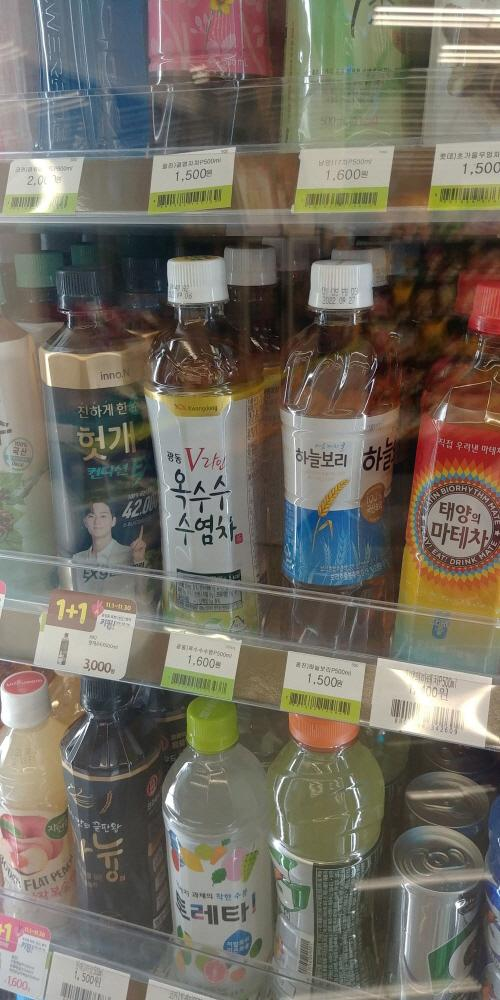gatorade_lemon: (268, 700, 396, 991)
oksususuyeomcha: (141, 250, 250, 622)
toreta: (153, 688, 277, 998)
